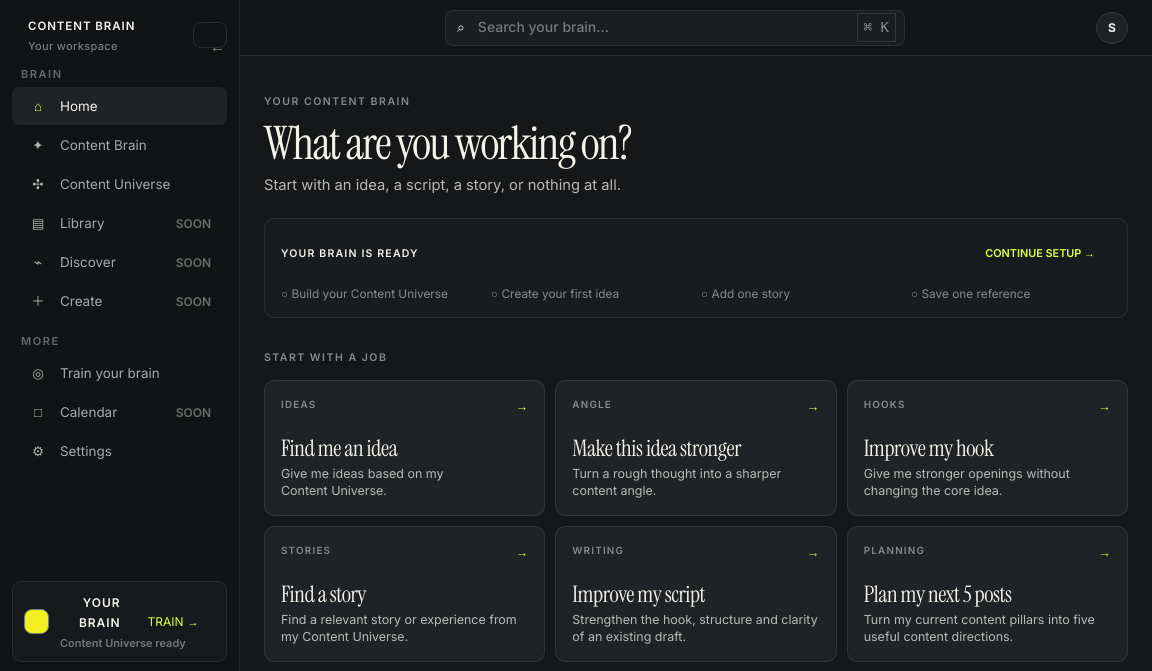
Test case: WorkspaceShell › opens the command menu with Command K and launches capture
Type keys "{Meta>}k{/Meta}"
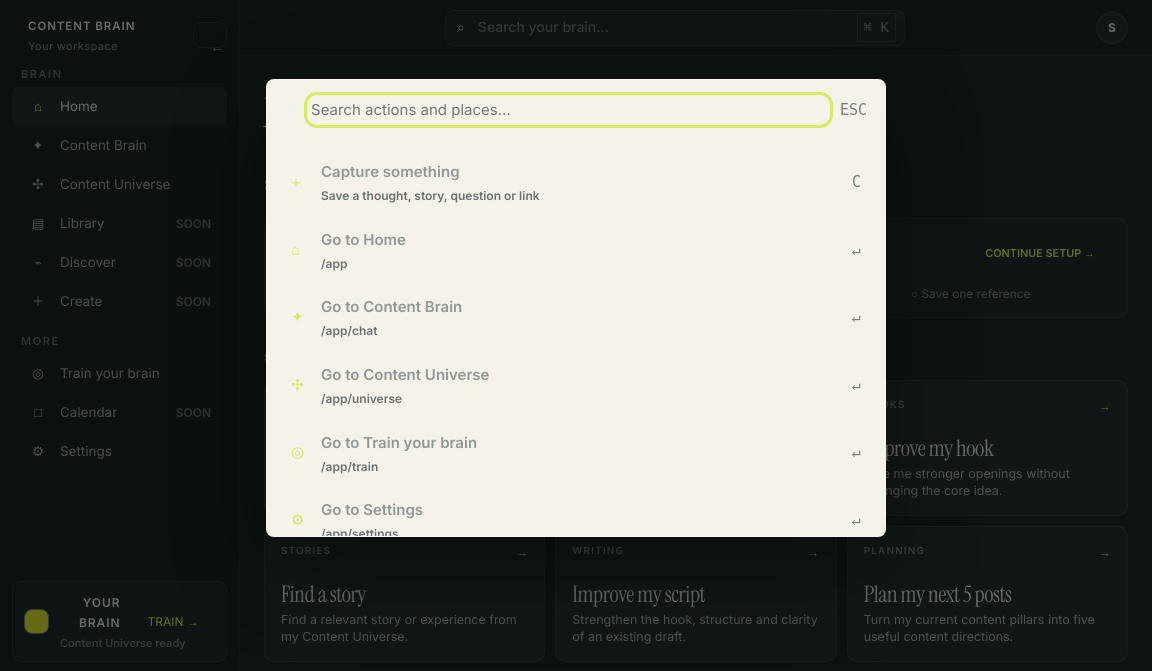
Expected: the dialog named "command menu" is shown, left=266, top=79, right=886, bottom=537
Click the button "Capture something" at (390, 172), box left=275, top=148, right=877, bottom=216
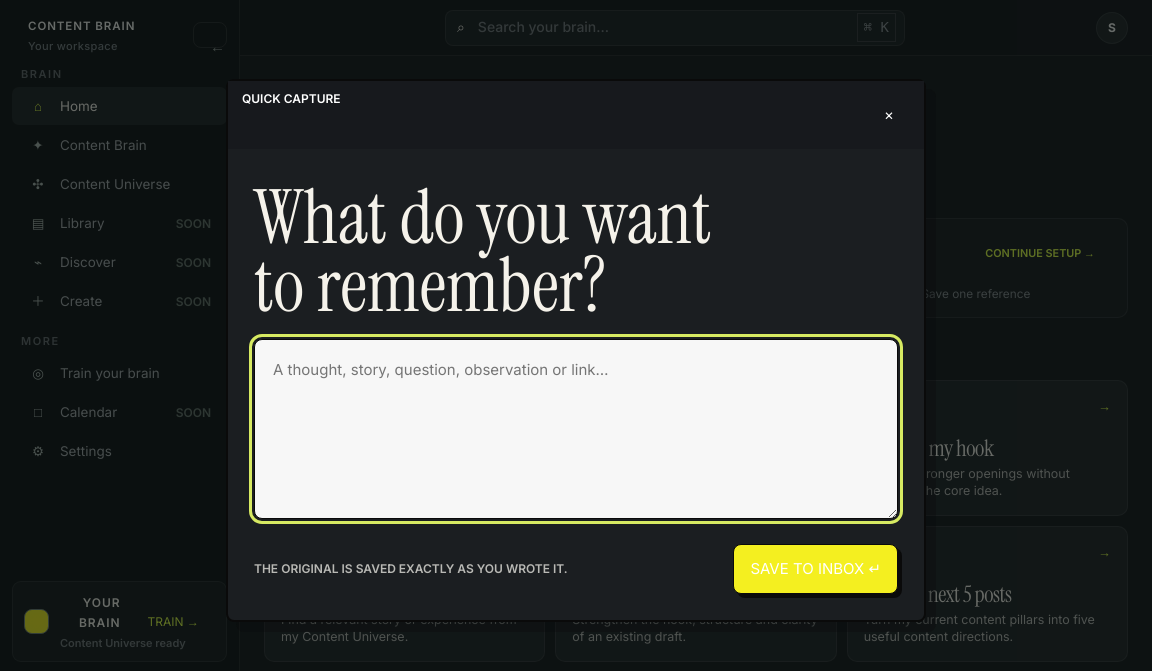
Expected: the dialog "What do you want to remember" is shown, left=226, top=79, right=926, bottom=622
